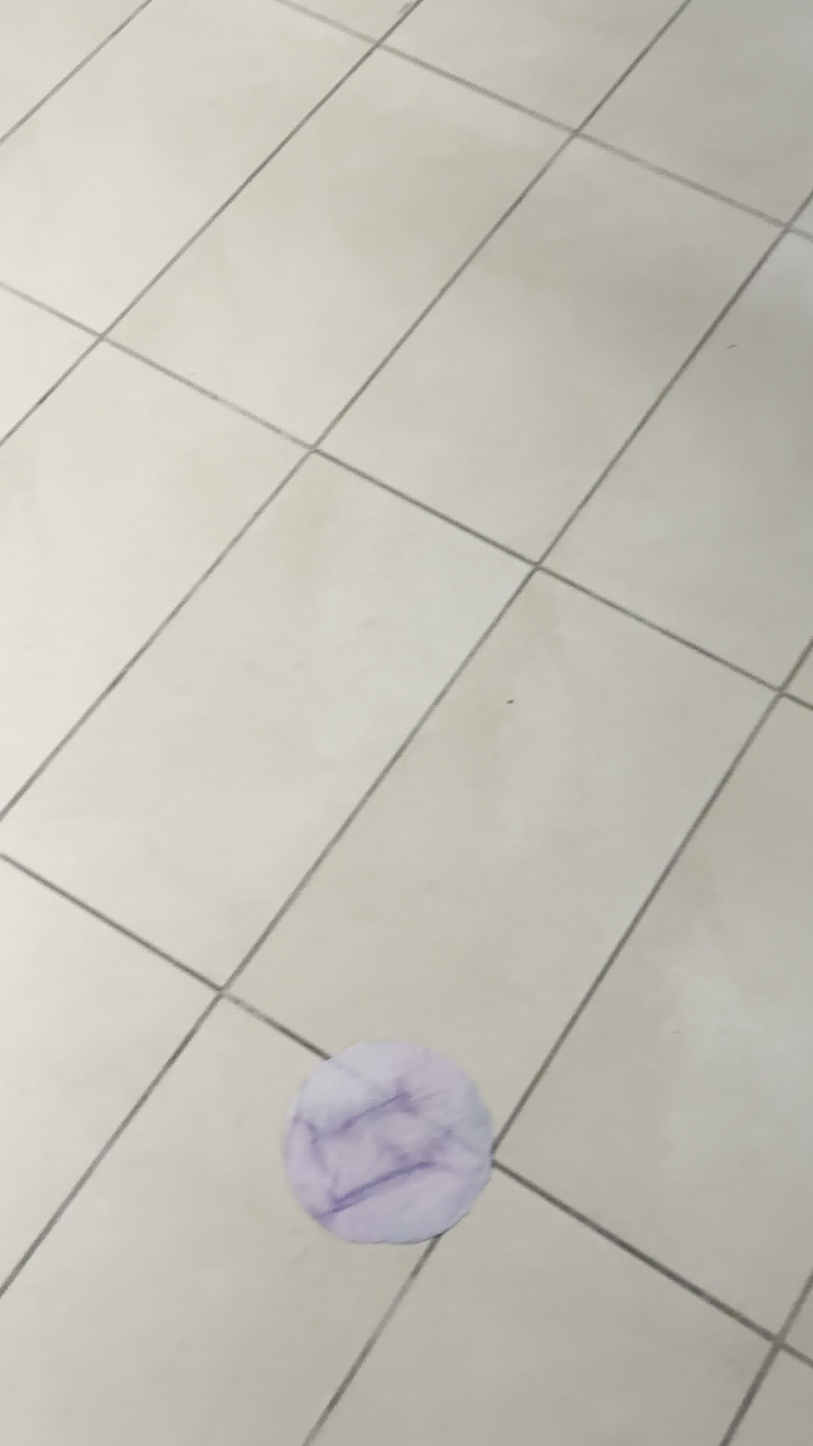Target: (282, 1043, 489, 1244)
